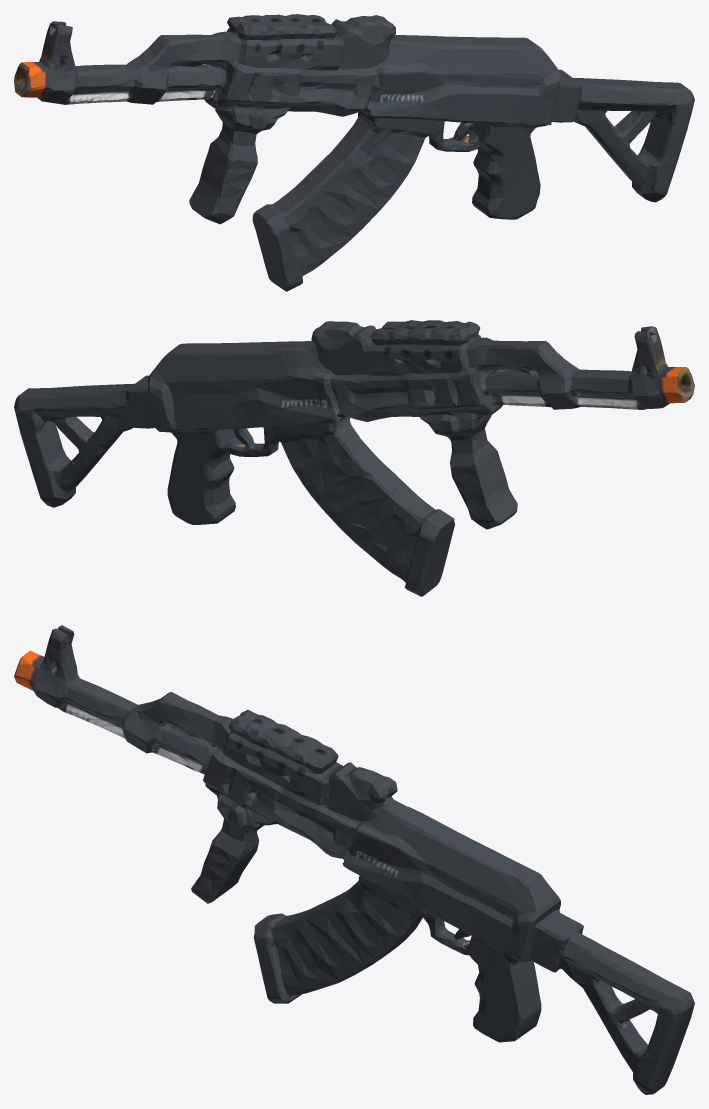
Rendered from Rifle.glb.
3 views of the same model, one above another, from view 1: azimuth 30°, elevation 25°; view 2: azimuth 150°, elevation 25°; view 3: azimuth 330°, elevation 25° (orthographic).
Parts seen in each view (by area): view 1: tmpxdg4cfx2.ply; view 2: tmpxdg4cfx2.ply; view 3: tmpxdg4cfx2.ply.
Boxes of the visible parts, x1,y1,x2,y2 form: tmpxdg4cfx2.ply: (14, 14, 694, 291); tmpxdg4cfx2.ply: (14, 320, 694, 596); tmpxdg4cfx2.ply: (14, 625, 694, 1094).
Size of the model in its own units: 1.99 by 0.9086 by 0.1587.
Materials: 1 (1 with a texture image).
